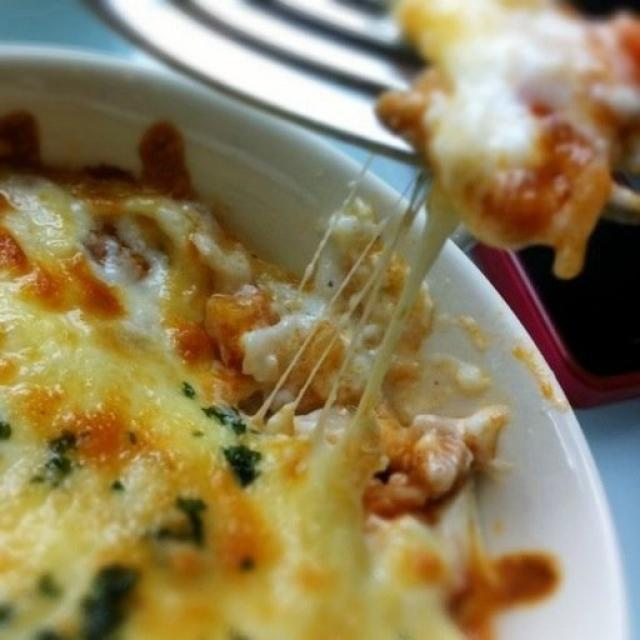Lasagna: (10, 136, 490, 640)
